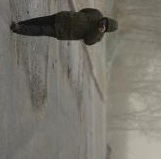person: (11, 7, 117, 45)
